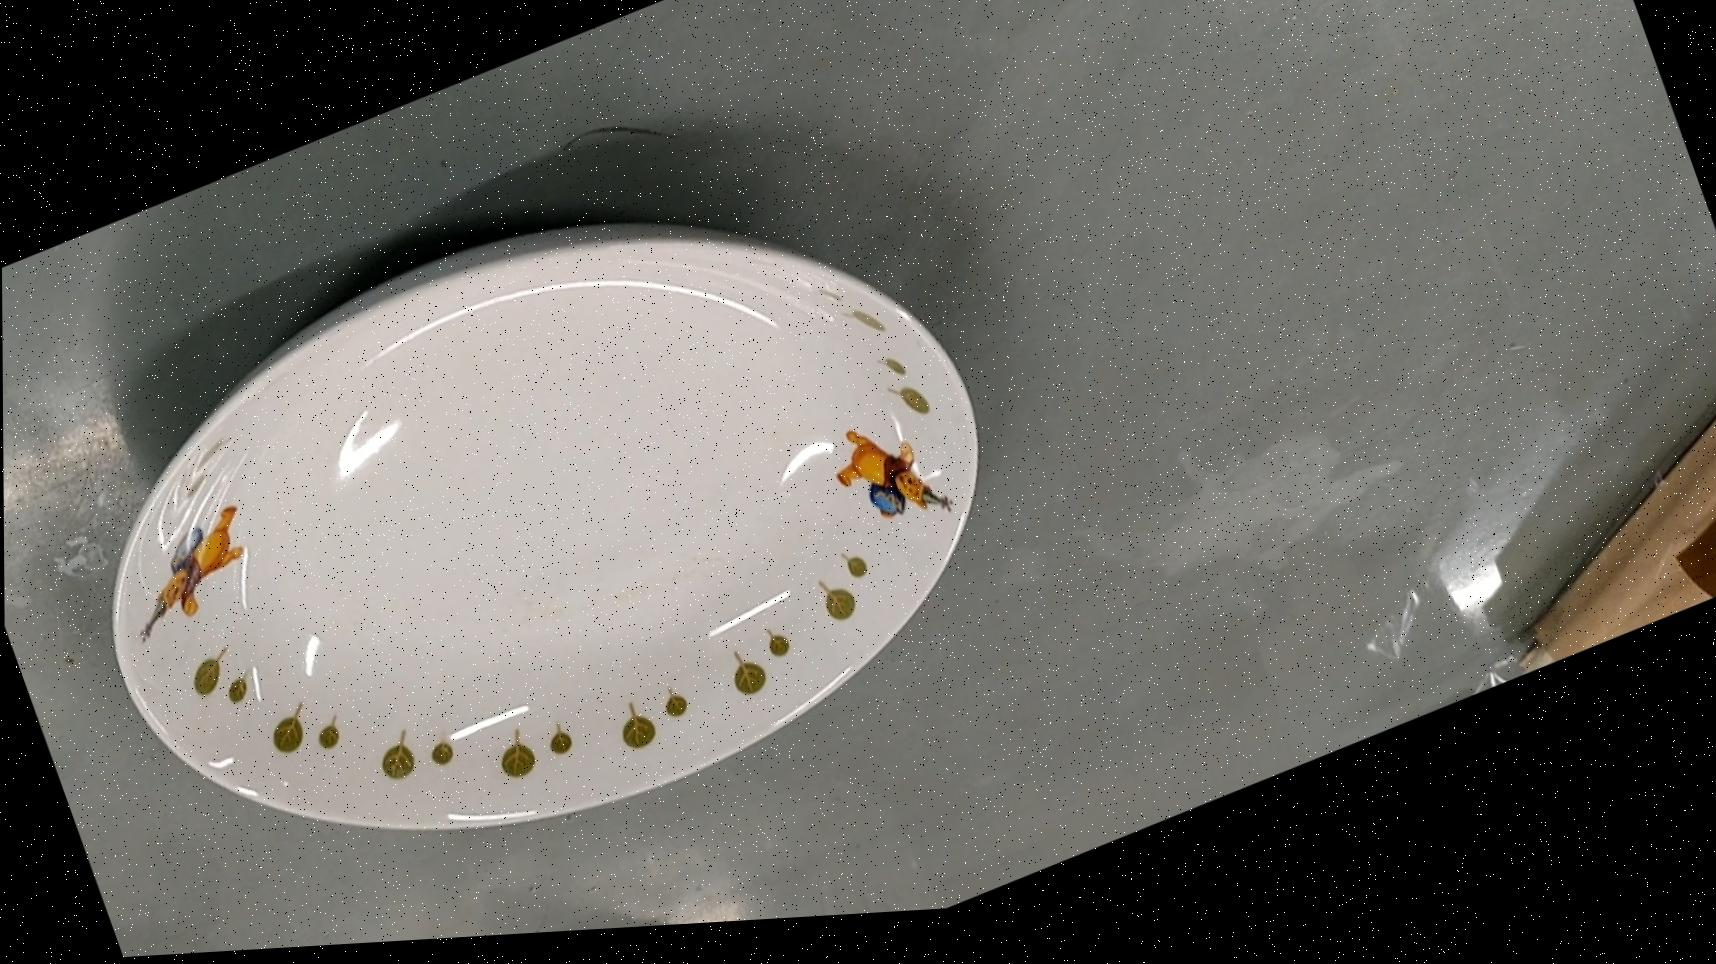plate: (35, 98, 1051, 963)
